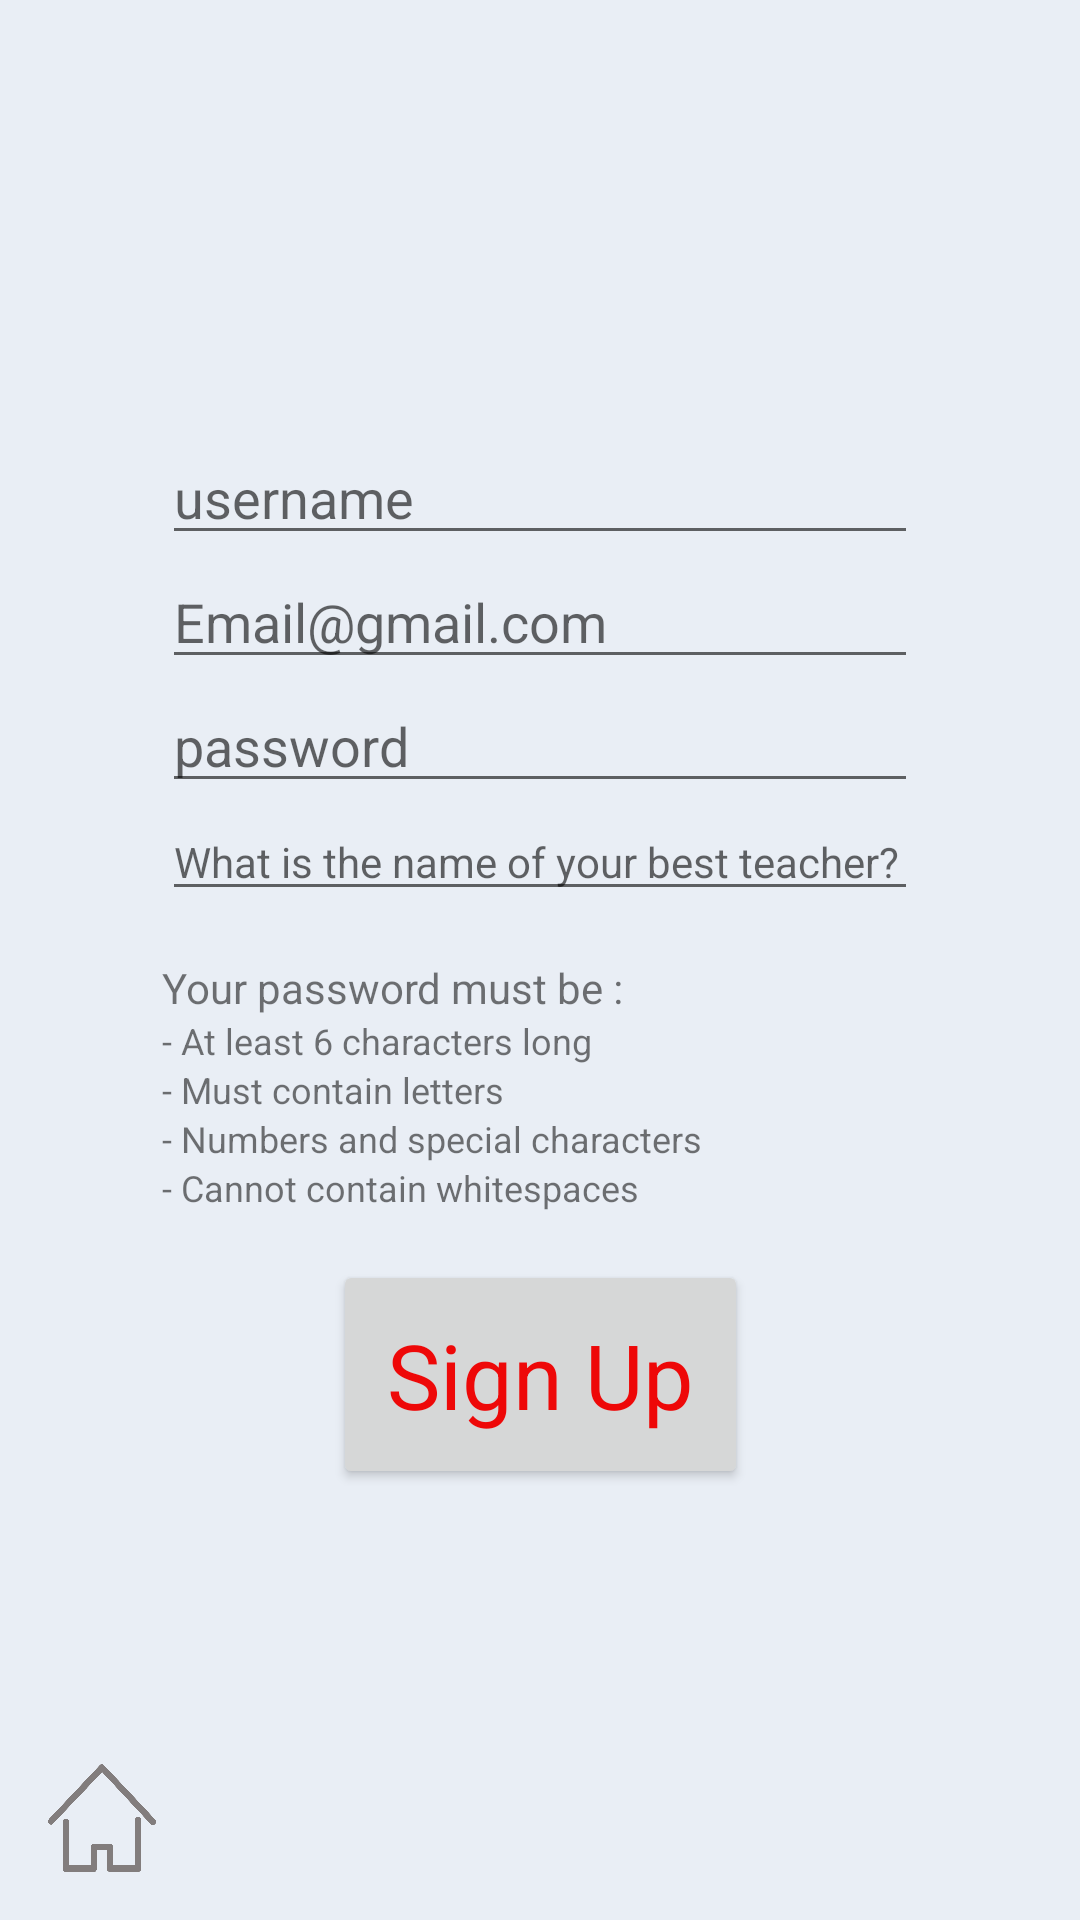

Icons on this 1080*1920 Android screen, each with the point to tap as [x,y]:
home: [102,1818]
